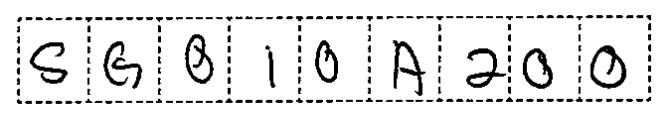0: (586, 39, 631, 95), (180, 31, 218, 89), (516, 42, 558, 94), (312, 37, 347, 87)
1: (251, 39, 287, 92)
2: (456, 45, 506, 94)
A: (382, 32, 430, 97)
G: (97, 36, 149, 92)
S: (23, 36, 73, 89)
